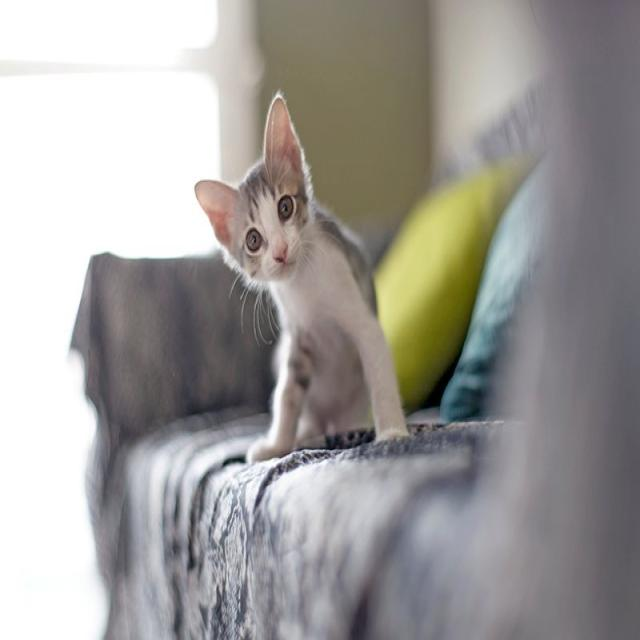cat: (209, 120, 377, 431)
